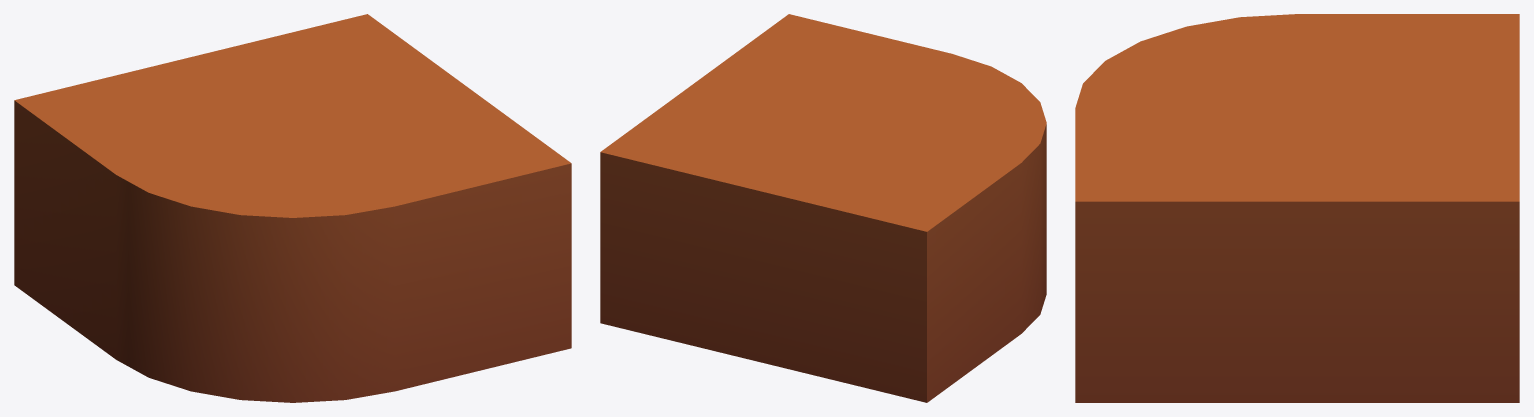
File: space-terrain-low-curved.glb
3 views of the same model, side by side, from view 1: azimuth 30°, elevation 25°; view 2: azimuth 150°, elevation 25°; view 3: azimuth 270°, elevation 25° (orthographic). The views are drawn at different scales.
Parts seen in each view (by area): view 1: terrain_low_curved; view 2: terrain_low_curved; view 3: terrain_low_curved.
Boxes of the visible parts, x1,y1,x2,y2 form: terrain_low_curved: [14, 14, 571, 402]; terrain_low_curved: [600, 14, 1046, 402]; terrain_low_curved: [1075, 14, 1519, 402].
Size of the model in its own units: 2 by 1 by 2.
